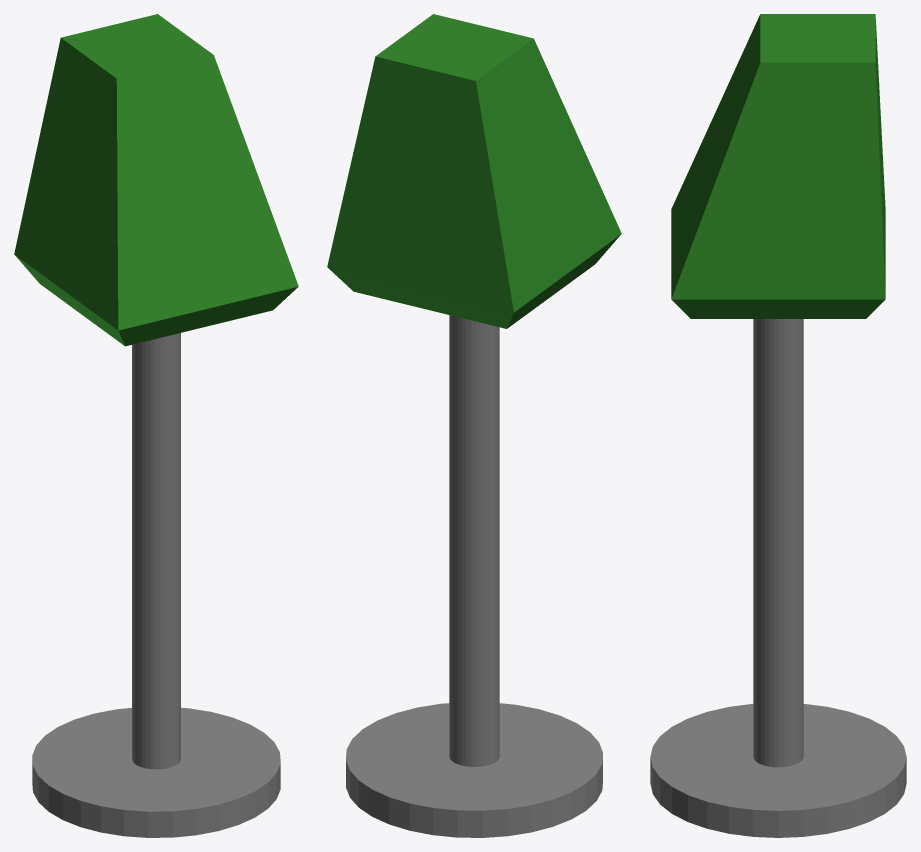
The model's file is Lamp.glb.
3 renders of one model, left to right at view 1: azimuth 30°, elevation 25°; view 2: azimuth 150°, elevation 25°; view 3: azimuth 270°, elevation 25°, orthographic. The views are drawn at different scales.
Visible parts, largest first — view 1: Cube, Circle; view 2: Cube, Circle; view 3: Cube, Circle.
Part boxes in pixels (x1,y1,x2,y2): Cube: (14, 14, 298, 346); Circle: (32, 333, 280, 837); Cube: (327, 14, 621, 328); Circle: (346, 315, 602, 837); Cube: (671, 14, 885, 318); Circle: (650, 319, 906, 837).
Bounding box in the file's own units: 1 × 3.21 × 1.
